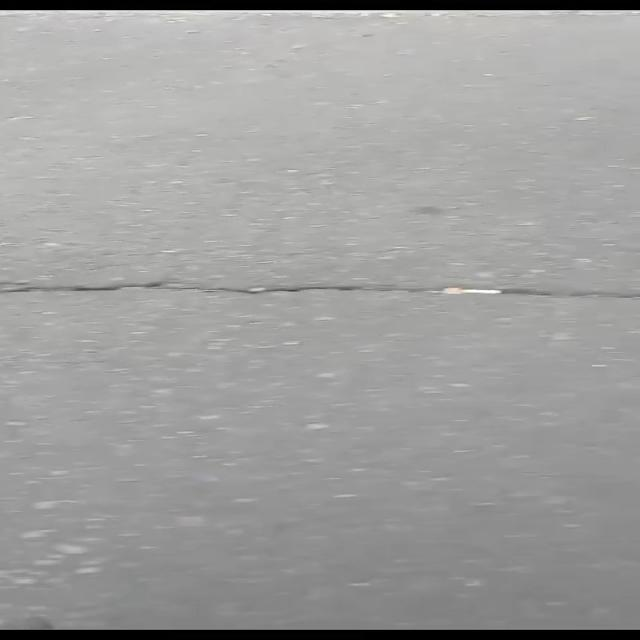Melintang: (0, 269, 640, 309)
